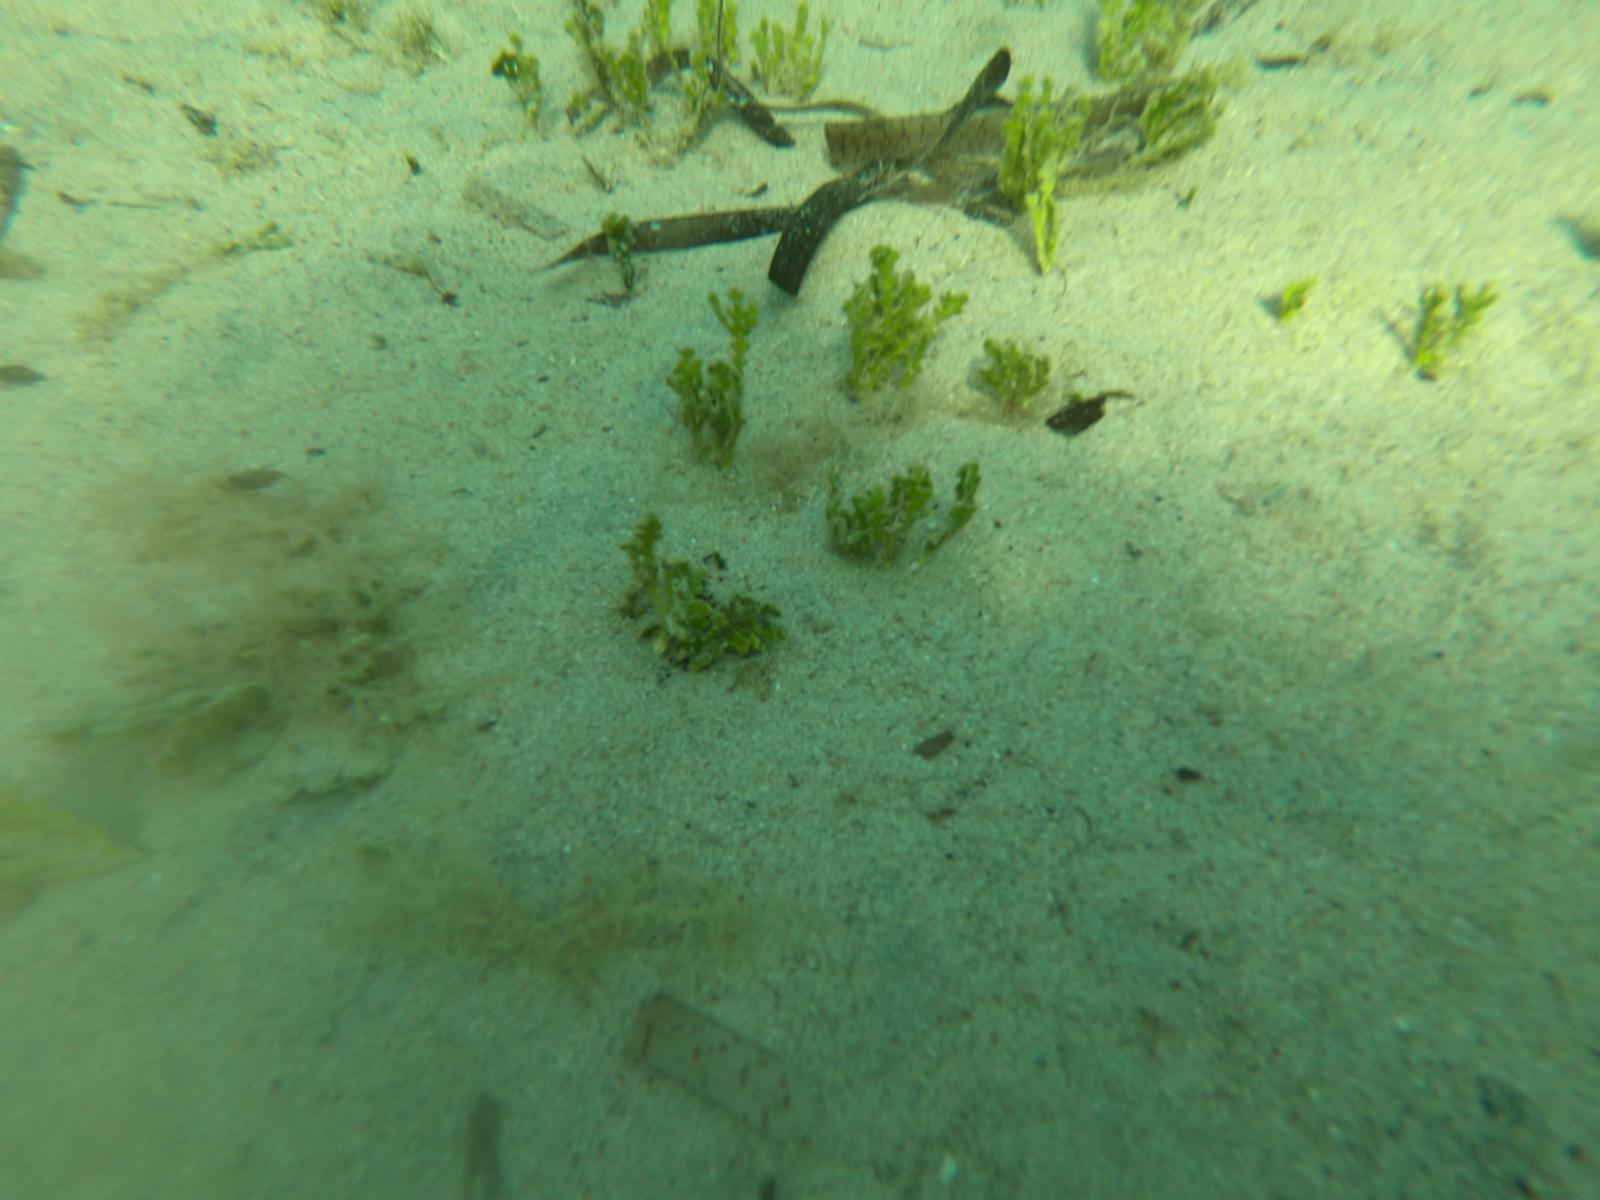halimeda: (607, 513, 790, 686), (837, 245, 965, 400), (997, 71, 1094, 271), (816, 454, 979, 565), (646, 4, 741, 118), (571, 1, 649, 137), (665, 347, 755, 464), (1139, 67, 1237, 165), (747, 6, 839, 106), (1412, 279, 1489, 379), (1089, 4, 1191, 79), (978, 329, 1049, 417), (495, 37, 551, 139), (708, 280, 760, 361), (598, 205, 646, 284)
